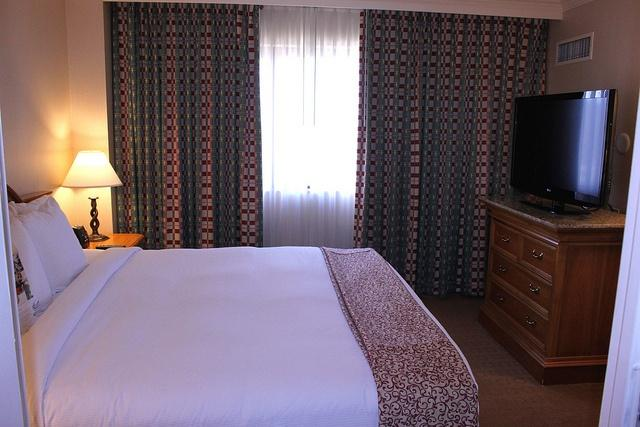AIO PC-Monitor-TV: (509, 88, 616, 216)
